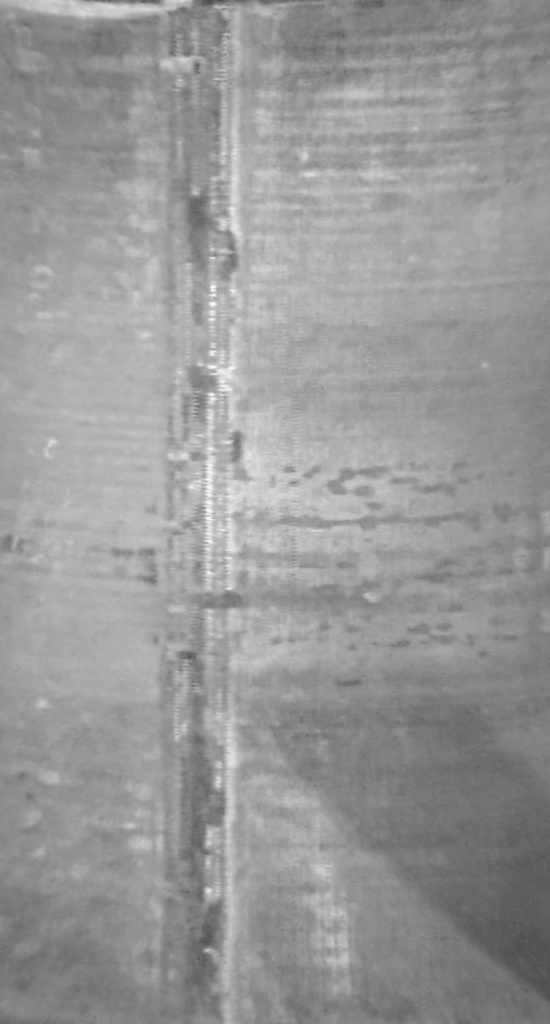splice: (161, 4, 258, 1024)
